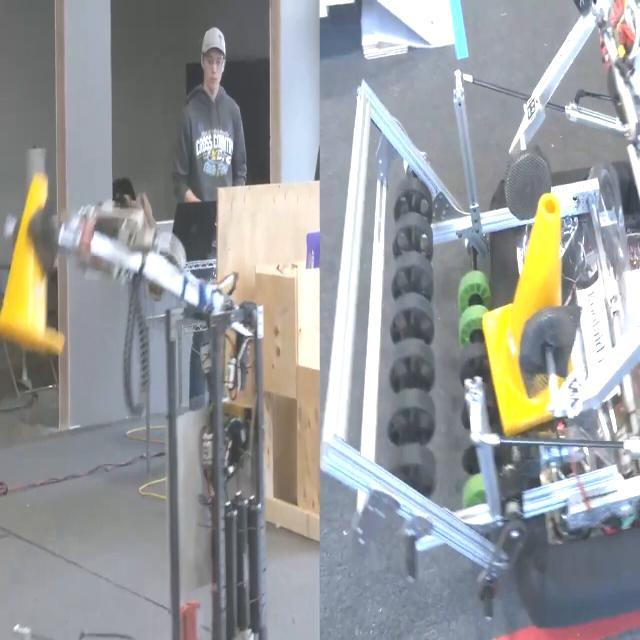frc_cone: (481, 193, 576, 438), (4, 174, 70, 369)
frc_cube: (302, 216, 320, 278)
